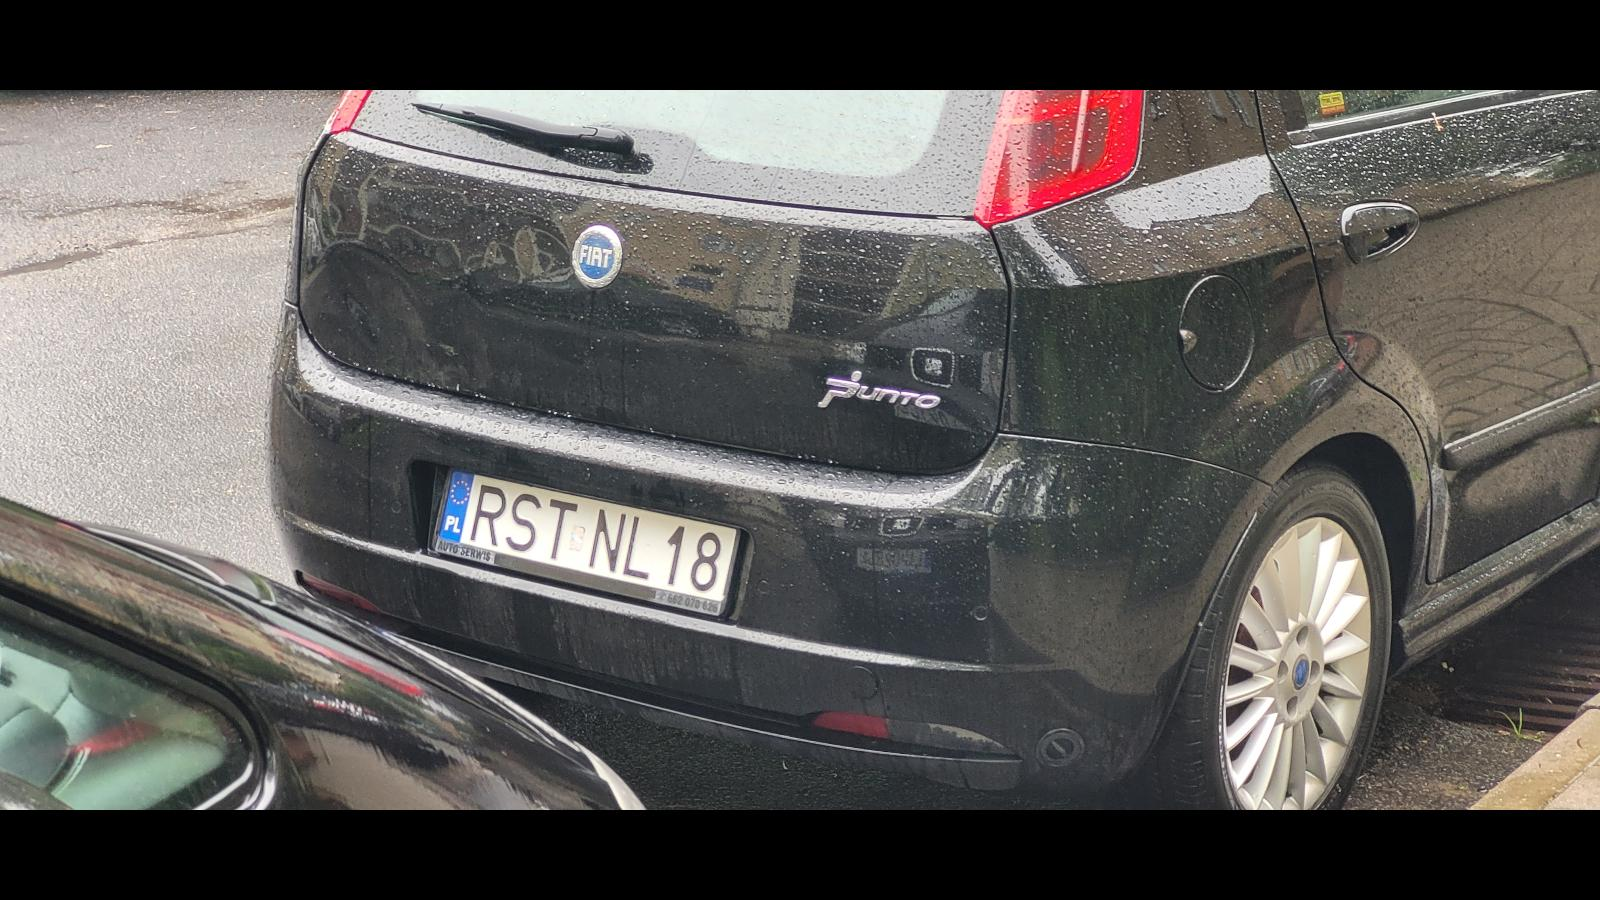plates: (432, 467, 742, 616)
